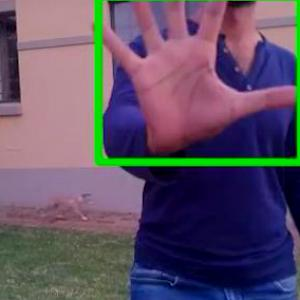follow_hand: (86, 0, 299, 156)
